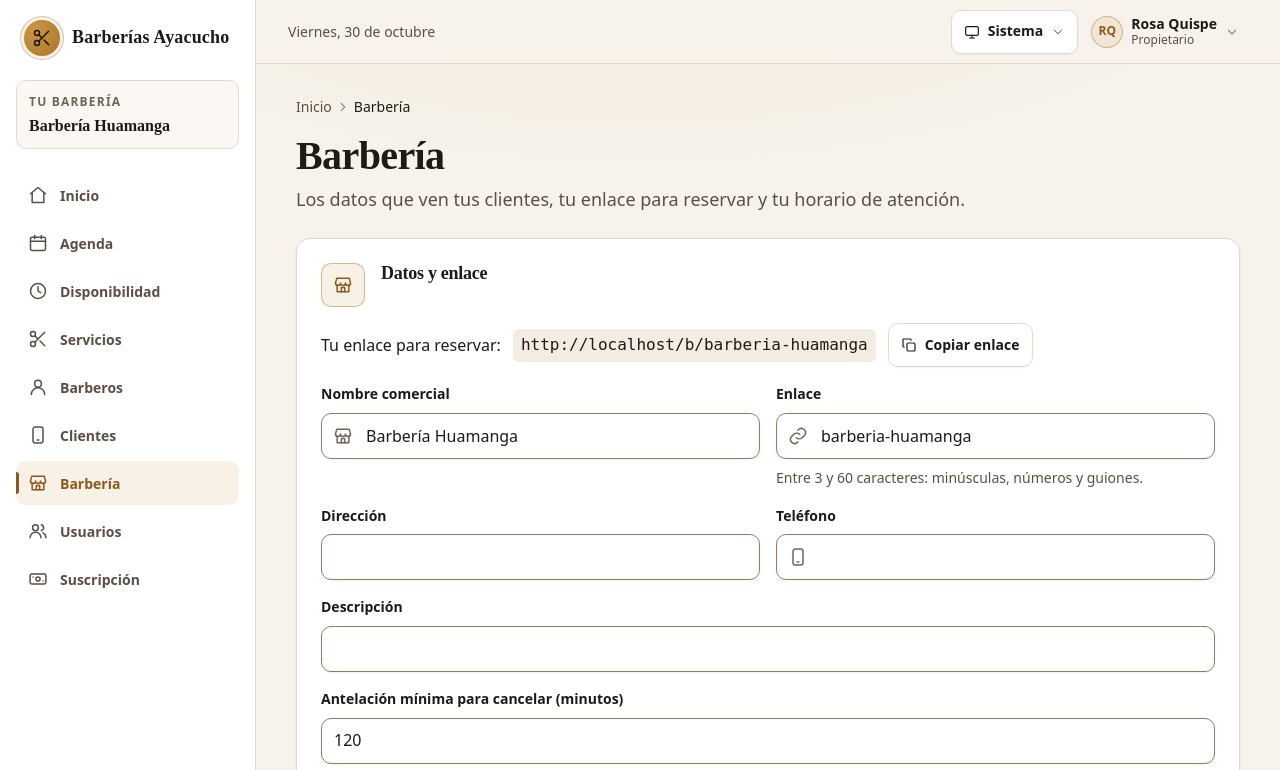
Test case: Barbería (/app/barberia) › avisa que el enlace anterior deja de funcionar y envía solo lo que cambió
The image size is (1280, 770).
Expected: the text "http://localhost/b/barberia-huamanga" is shown, [513, 329, 876, 362]
Expected: the button "Copiar enlace" is shown, [888, 323, 1032, 367]
Step 1. Replace the text in the field labelled "Enlace" with "huamanga-centro" → (996, 436), box [776, 413, 1215, 459]
(page scrolled)
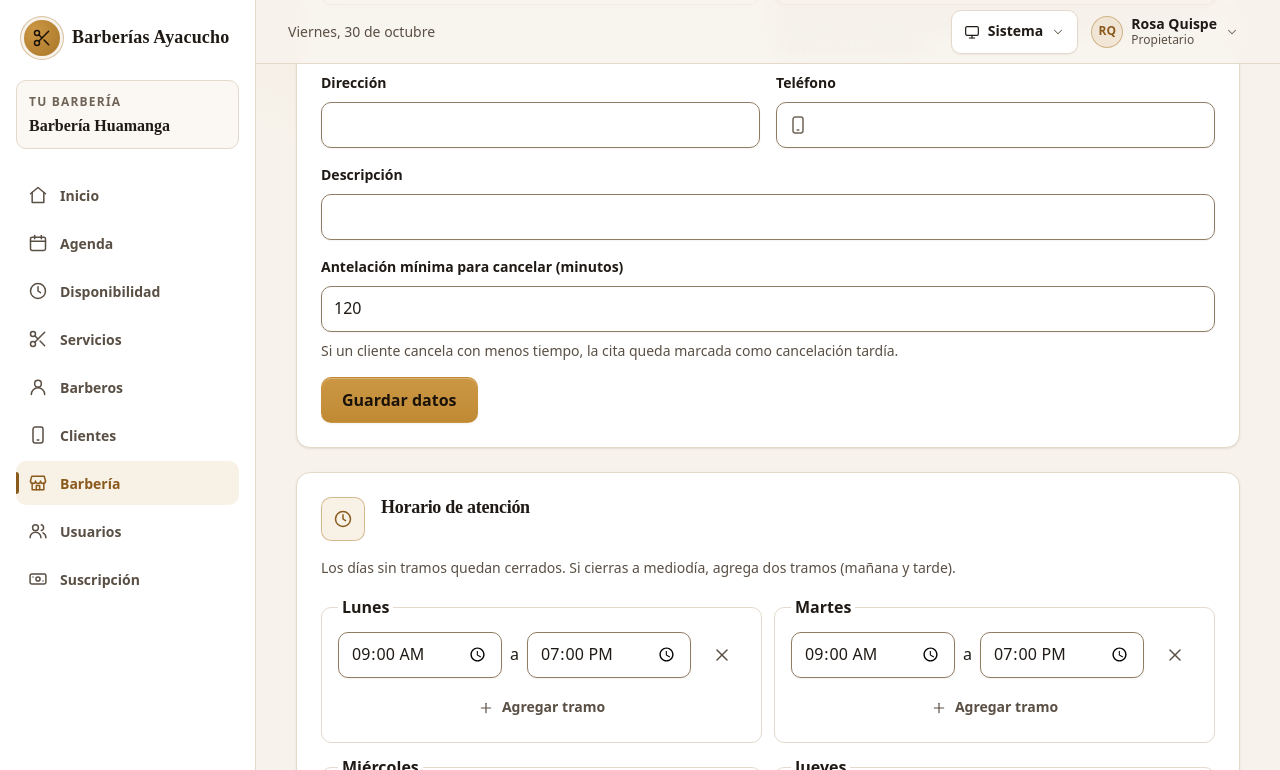
Expected: the text "el enlace anterior dejará de funcionar" is shown, [776, 14, 1183, 55]
Step 2. Click the button "Guardar datos" → (399, 400), box [321, 377, 478, 423]
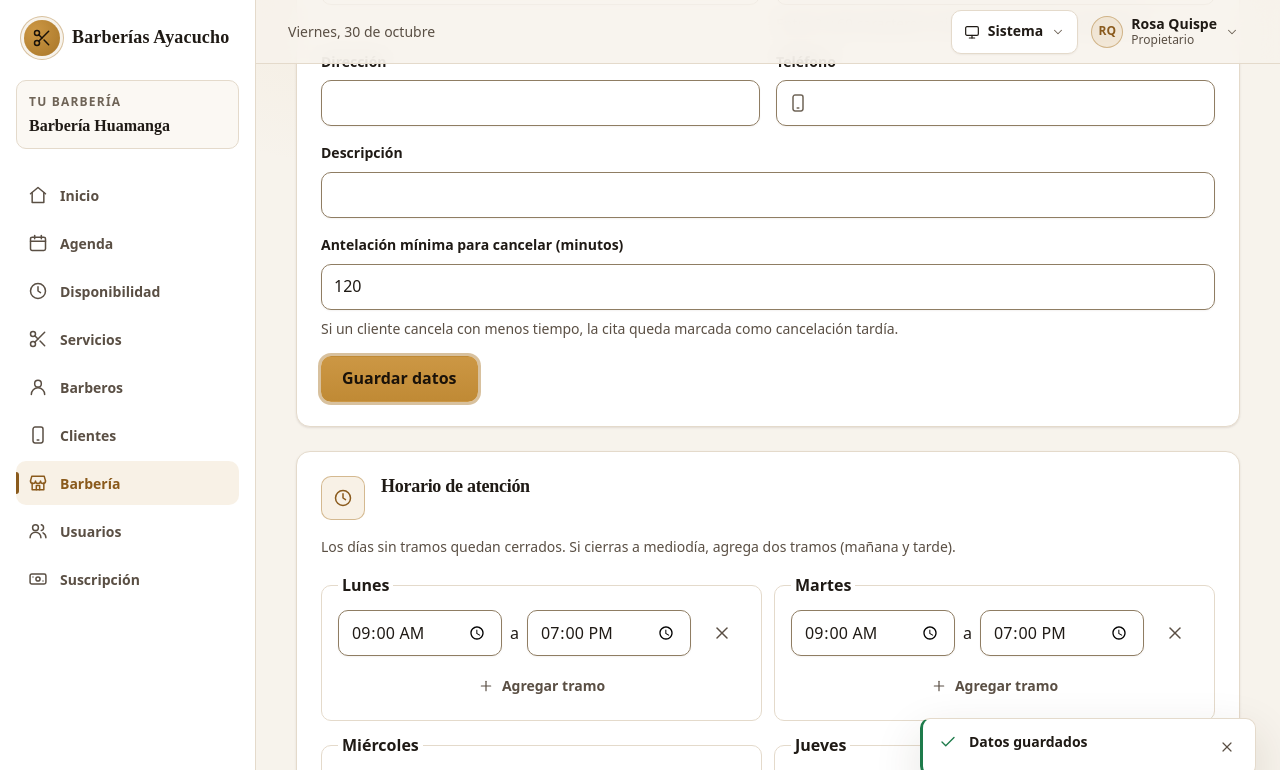
Result: the text "Datos guardados" is shown at [969, 732, 1088, 751]
